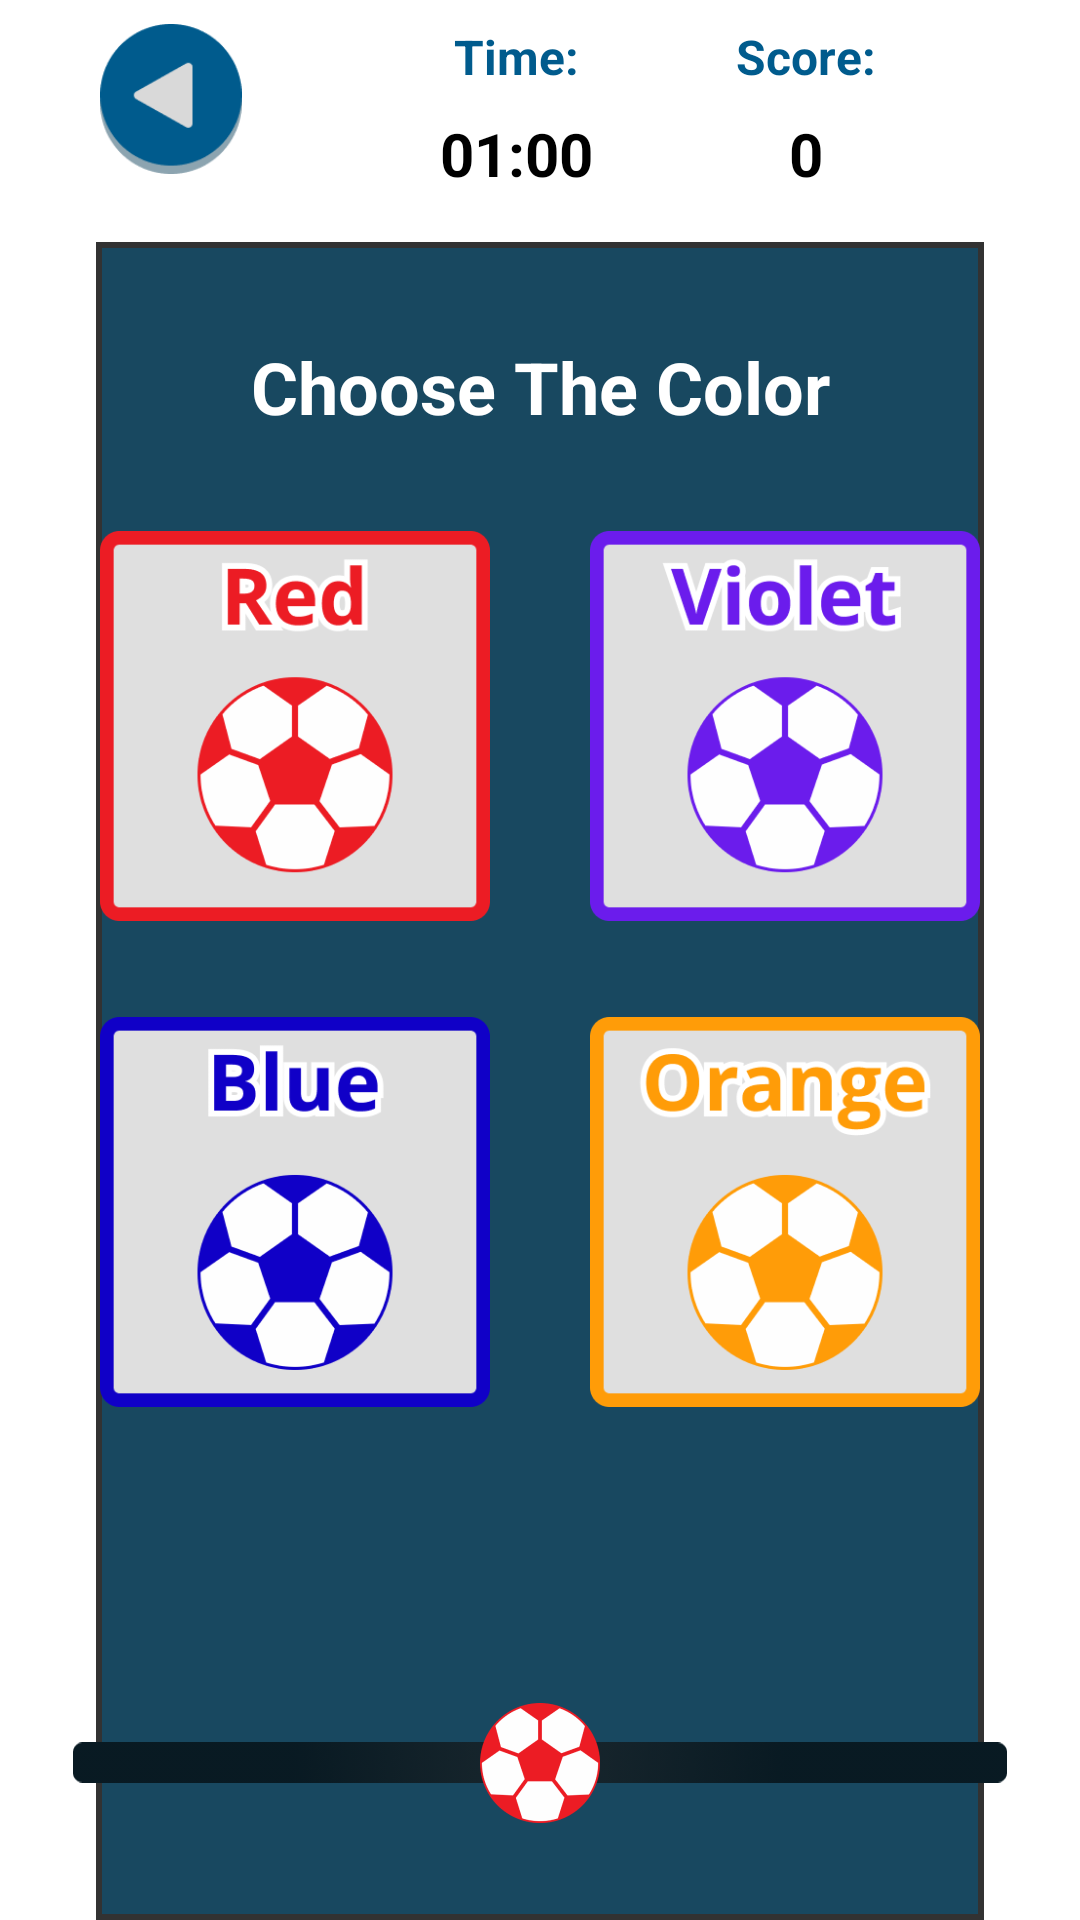

Where icons sit on this 1080 × 1920 app screen, as [x1,y1,x2,y2]:
back: [100,24,242,174]
